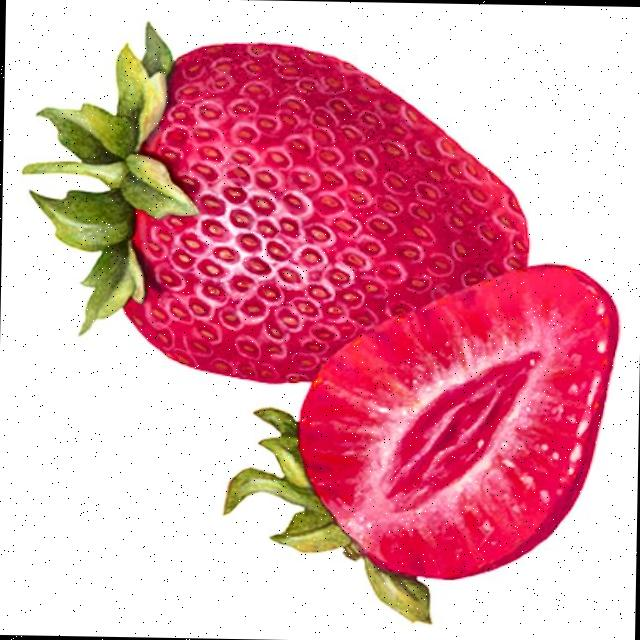strawberry: (24, 24, 527, 382), (224, 264, 617, 621)
